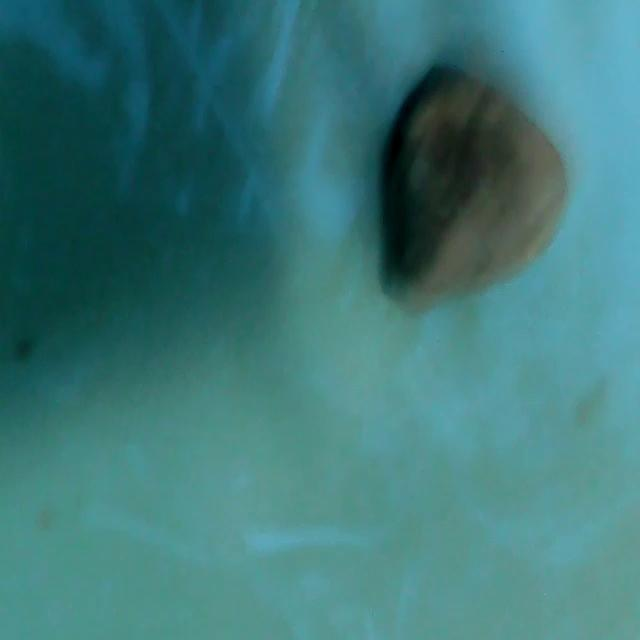rock: (365, 56, 575, 324)
